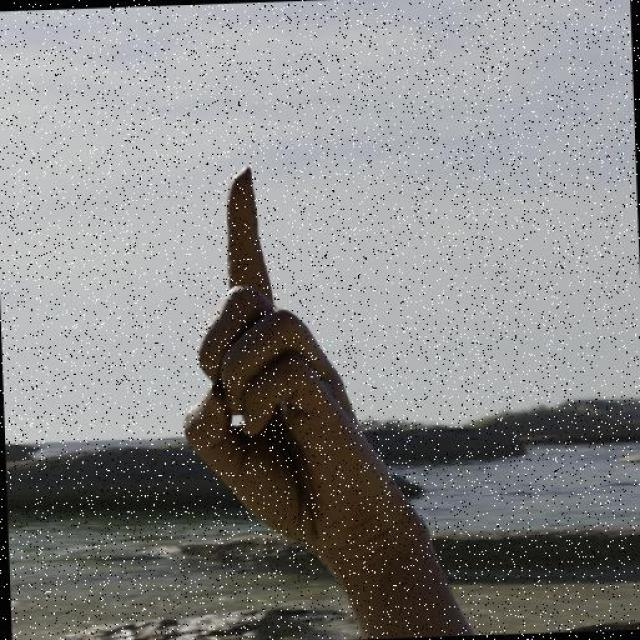D: (158, 150, 427, 560)
